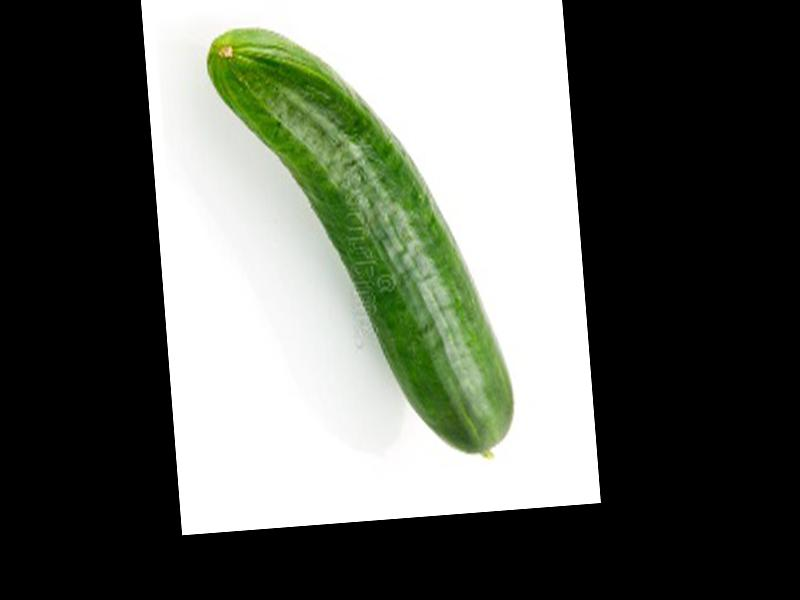Cucumber: (204, 10, 516, 471)
